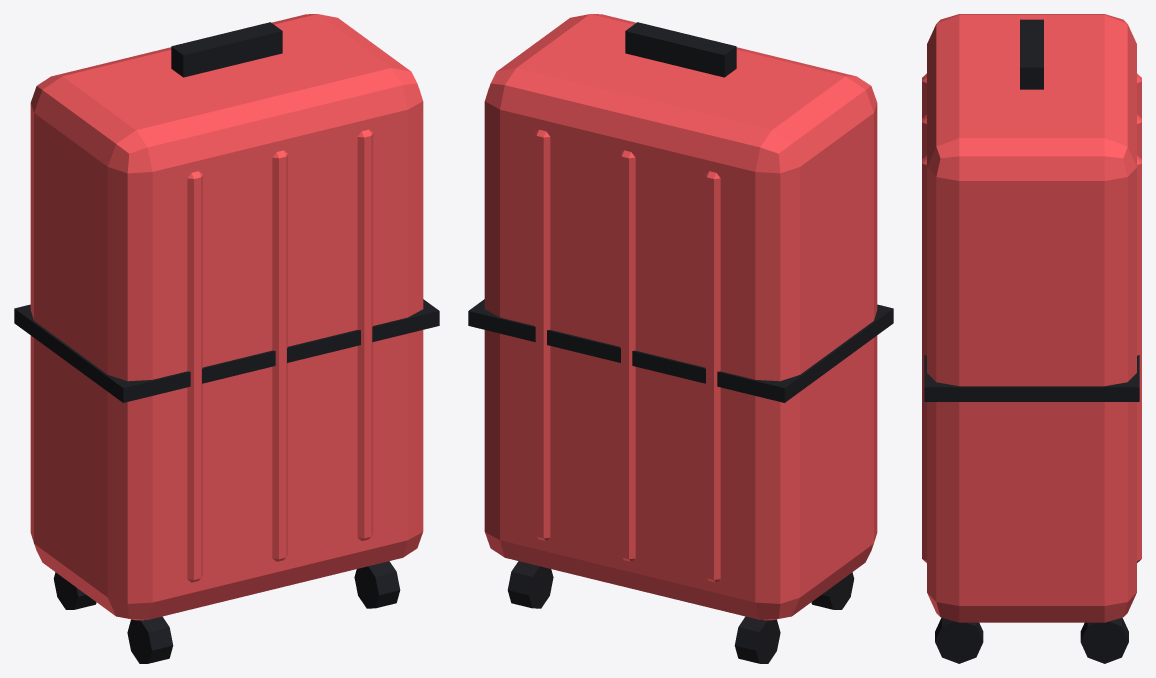
Rendered from case_coral.glb.
The picture shows the model from 3 angles, left to right: view 1: azimuth 30°, elevation 25°; view 2: azimuth 150°, elevation 25°; view 3: azimuth 270°, elevation 25°; orthographic projection.
Parts seen in each view (by area): view 1: Cube; view 2: Cube; view 3: Cube.
Part boxes in pixels (x1,y1,x2,y2): Cube: [14, 14, 439, 663]; Cube: [468, 14, 893, 663]; Cube: [922, 14, 1141, 663].
Size of the model in its own units: 0.446 by 0.765 by 0.272.
